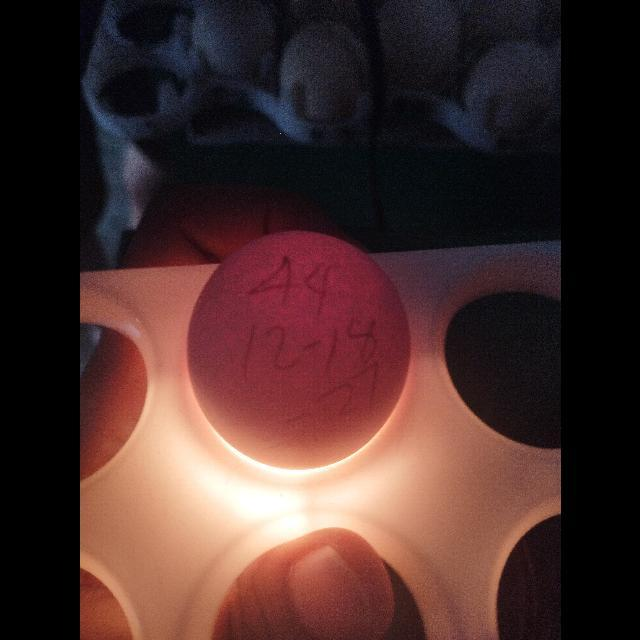Infertile: (182, 220, 416, 482)
